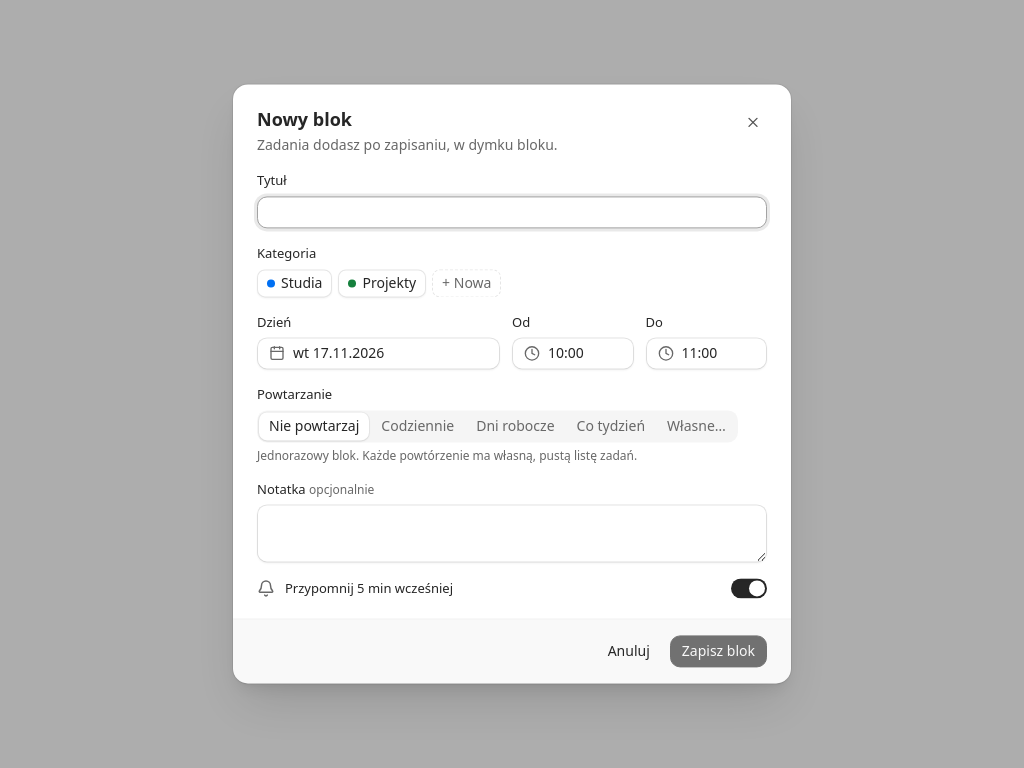
BlockDialog › pusty tytuł blokuje „Zapisz blok”
This screenshot has width=1024, height=768.
Expected: the button "Zapisz blok" is disabled, [670,636,767,668]
Type "Algebra" into the field labelled "Tytuł" at (512,212), box [257,196,767,228]
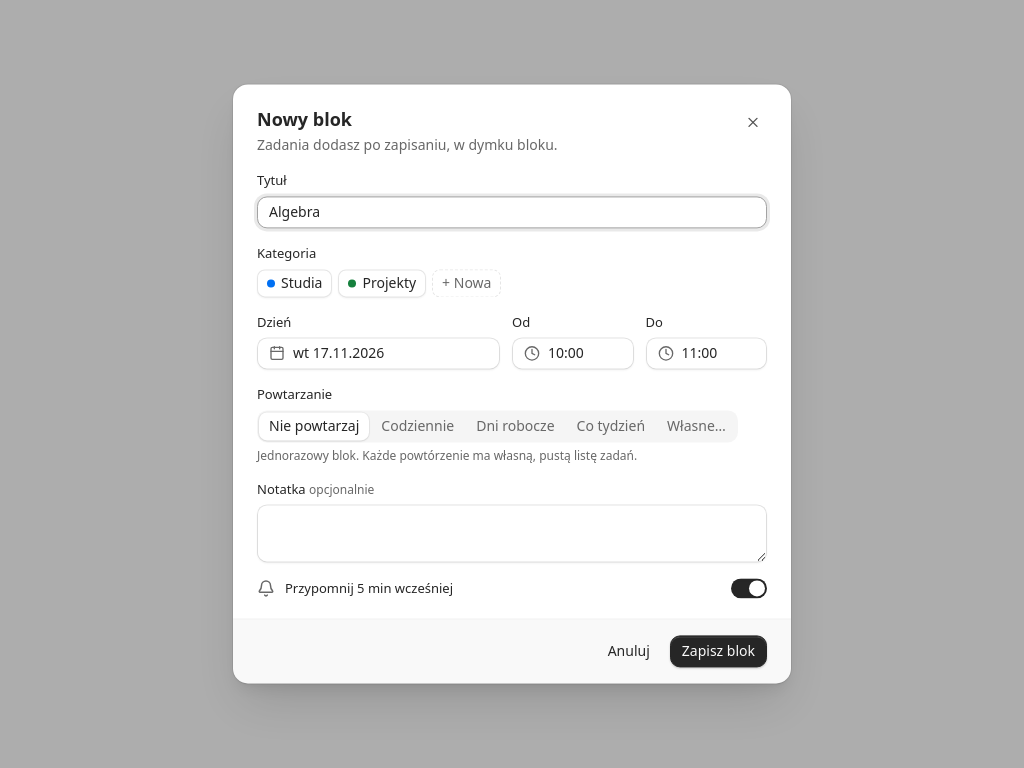
Expected: the button "Zapisz blok" is enabled, [670,636,767,668]
